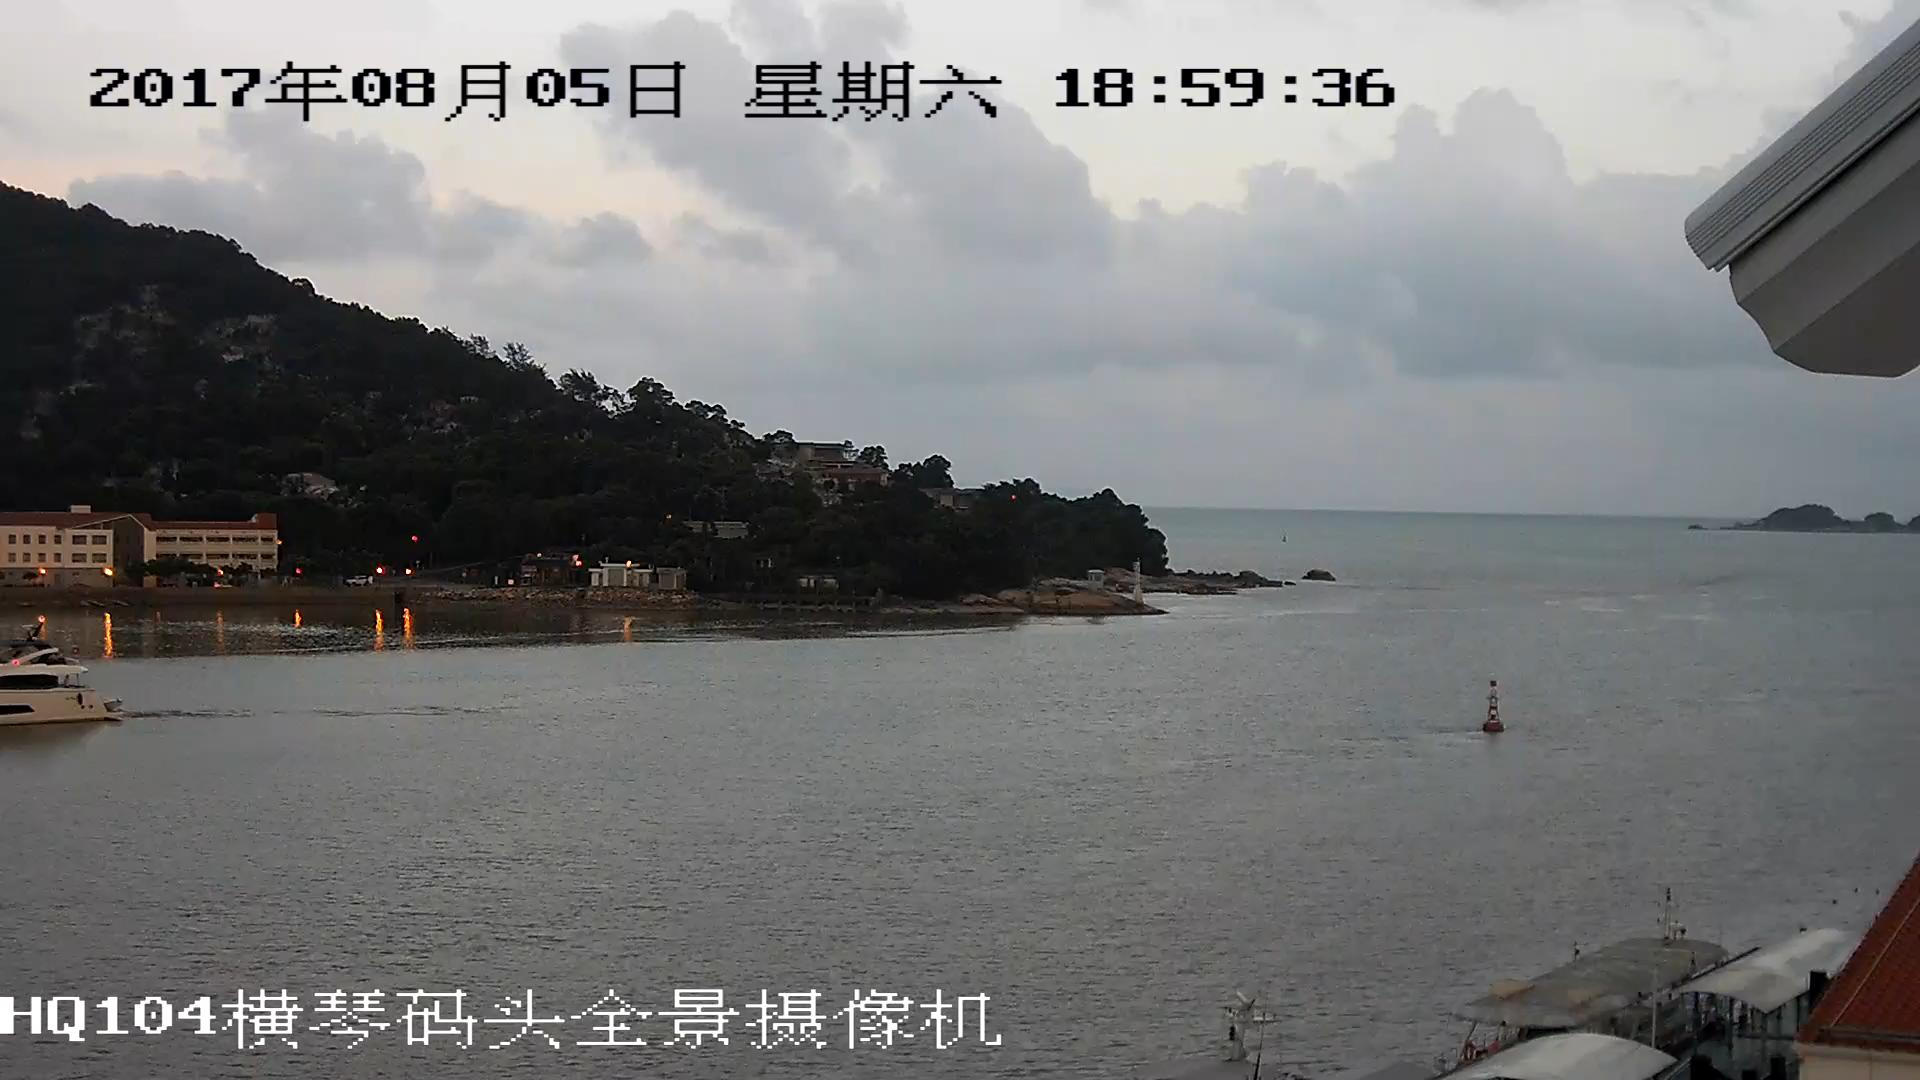passenger ship: (1, 638, 122, 722)
